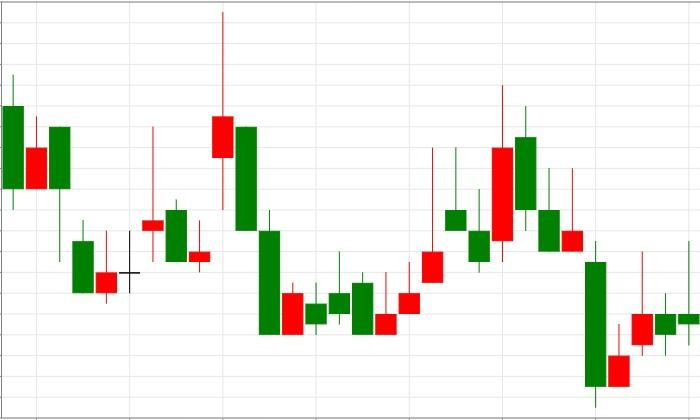inverse_hammer_rise: (211, 12, 398, 336), (2, 75, 118, 303)
shooting_star_fall: (374, 147, 468, 336)
three_white_soldiers_rise: (211, 12, 444, 336)
